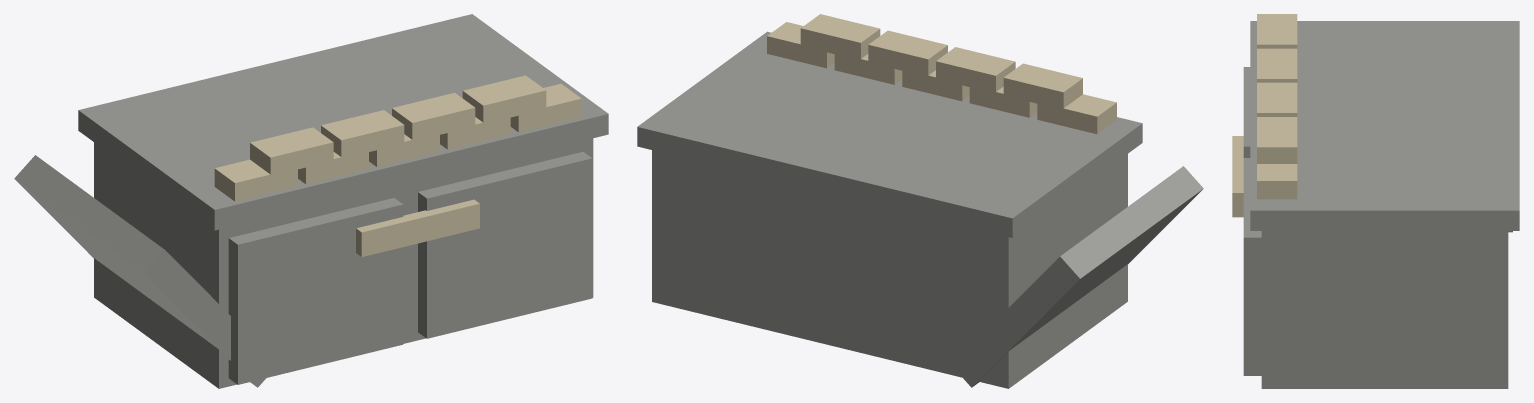
The model's file is bunker.glb.
3 renders of one model, left to right at view 1: azimuth 30°, elevation 25°; view 2: azimuth 150°, elevation 25°; view 3: azimuth 270°, elevation 25°, orthographic. The views are drawn at different scales.
Visible parts, largest first — view 1: CommandBunker, chunk_4, chunk_5, chunk_3, accent_chunk_1, accent_chunk_2, accent_chunk_6; view 2: CommandBunker, chunk_3, accent_chunk_1, accent_chunk_2; view 3: CommandBunker, accent_chunk_1, chunk_5, accent_chunk_2, accent_chunk_6, chunk_4.
Part boxes in pixels (<box>): CommandBunker: <box>78,14,608,388</box>; chunk_4: <box>228,198,403,384</box>; chunk_5: <box>418,151,592,338</box>; chunk_3: <box>14,155,266,387</box>; accent_chunk_1: <box>250,75,546,175</box>; accent_chunk_2: <box>214,83,581,201</box>; accent_chunk_6: <box>356,199,479,256</box>; CommandBunker: <box>637,31,1142,388</box>; chunk_3: <box>951,166,1203,387</box>; accent_chunk_1: <box>800,14,1082,109</box>; accent_chunk_2: <box>767,22,1116,134</box>; CommandBunker: <box>1250,21,1519,388</box>; accent_chunk_1: <box>1257,14,1297,163</box>; chunk_5: <box>1243,158,1261,375</box>; accent_chunk_2: <box>1257,14,1297,199</box>; accent_chunk_6: <box>1232,136,1243,217</box>; chunk_4: <box>1243,67,1250,157</box>.
Bounding box in the file's own units: 1.17 × 0.5509 × 0.64.
